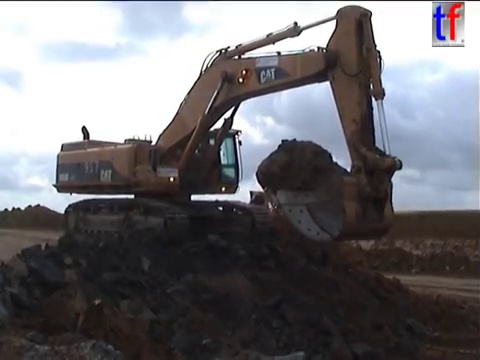excavator: (49, 3, 406, 251)
